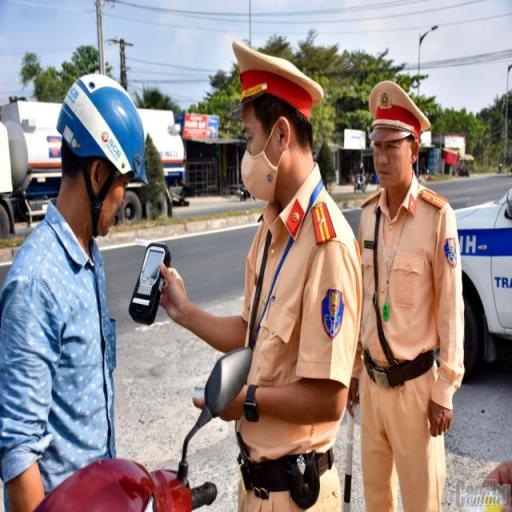with helmet: (54, 71, 151, 185)
